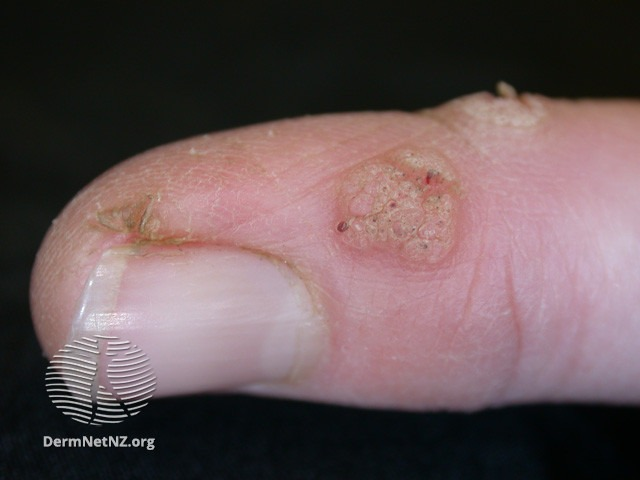Warts: (319, 131, 484, 277)
